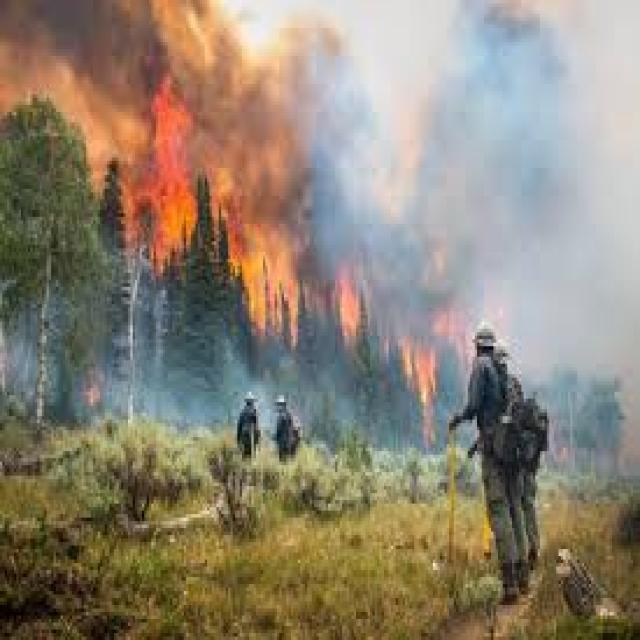Fire: (130, 59, 207, 278)
Smoke: (230, 0, 640, 340), (135, 0, 591, 259), (319, 6, 636, 315), (87, 10, 640, 161)
